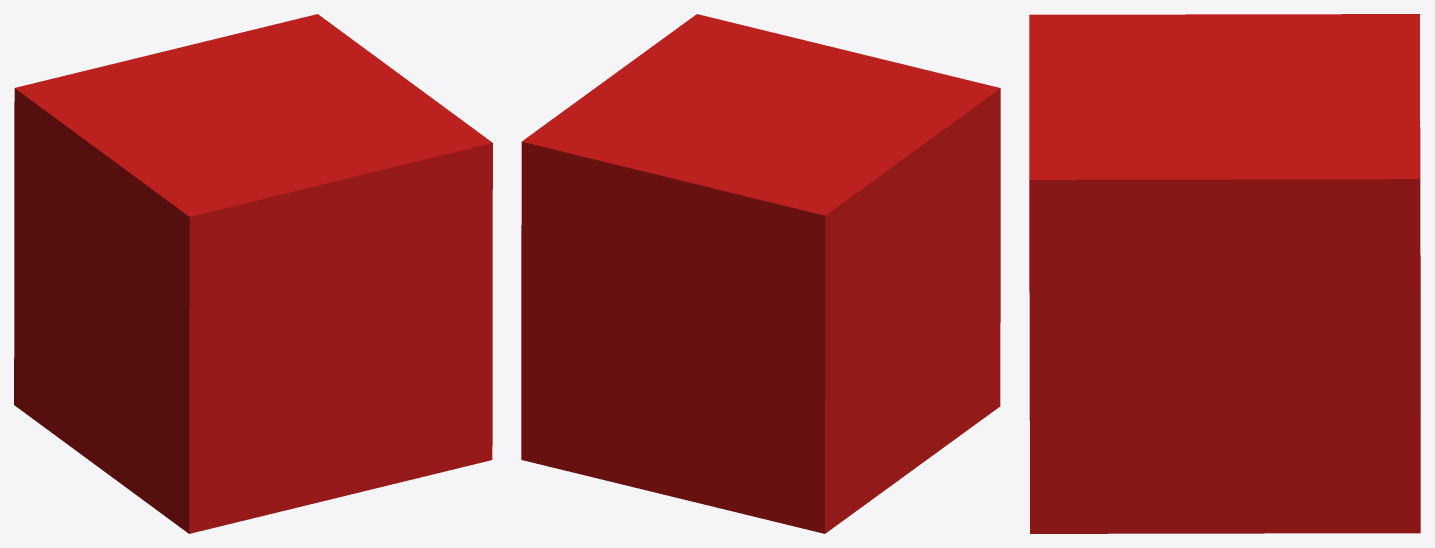
The picture shows the model from 3 angles, left to right: view 1: azimuth 30°, elevation 25°; view 2: azimuth 150°, elevation 25°; view 3: azimuth 270°, elevation 25°; orthographic projection. The views are drawn at different scales.
Visible parts, largest first — view 1: 立方体; view 2: 立方体; view 3: 立方体.
Part boxes in pixels (box(x1,y1,x2,y2)): 立方体: box(14, 14, 492, 533); 立方体: box(521, 14, 1000, 533); 立方体: box(1029, 14, 1420, 533).
Size of the model in its own units: 4 by 4.01 by 4.01.
Materials: 1 (1 with a texture image).
